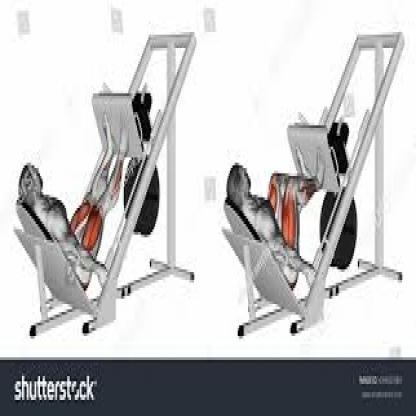leg press: (13, 16, 201, 339), (220, 27, 411, 339)
